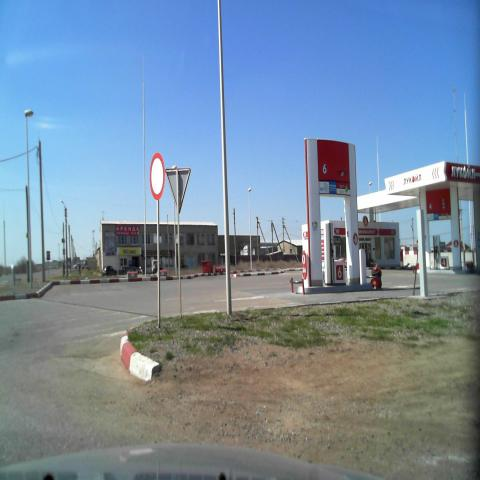3_2: (148, 152, 166, 201)
